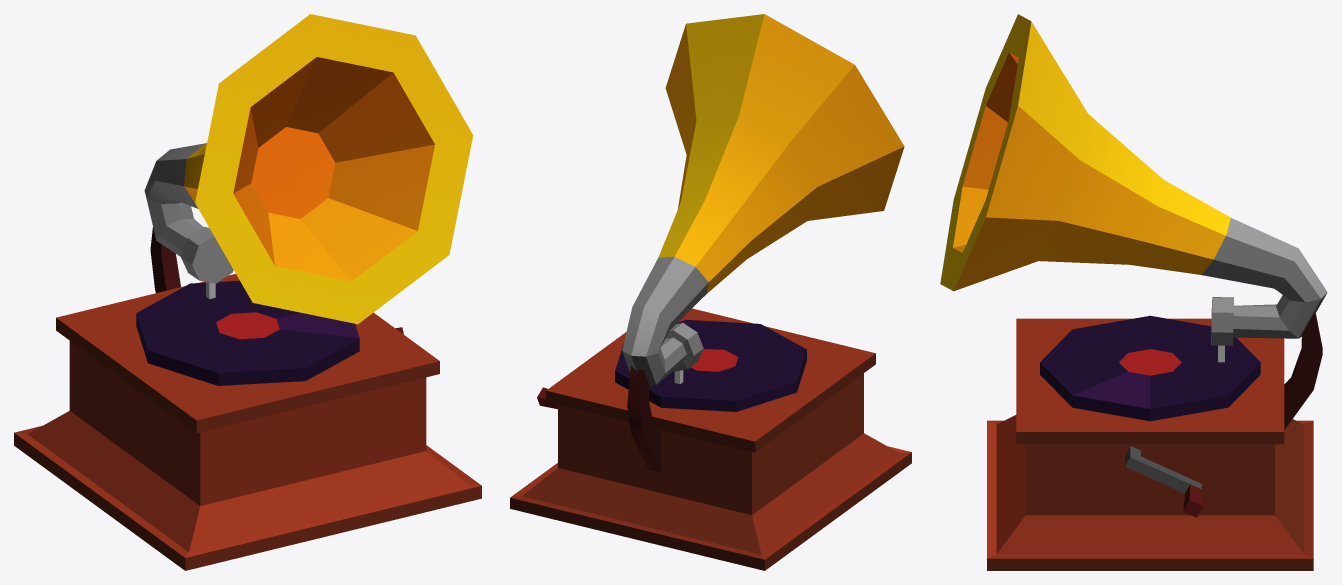
File: gramophone_01.fbx
The picture shows the model from 3 angles, left to right: view 1: azimuth 30°, elevation 25°; view 2: azimuth 150°, elevation 25°; view 3: azimuth 270°, elevation 25°; orthographic projection. The views are drawn at different scales.
Visible parts, largest first — view 1: gramophone_01; view 2: gramophone_01; view 3: gramophone_01.
Part boxes in pixels (left/top/right/bottom): gramophone_01: left=14, top=14, right=481, bottom=570; gramophone_01: left=510, top=14, right=911, bottom=570; gramophone_01: left=940, top=14, right=1327, bottom=570.
Bounding box in the file's own units: 52.27 × 77.86 × 56.88.
